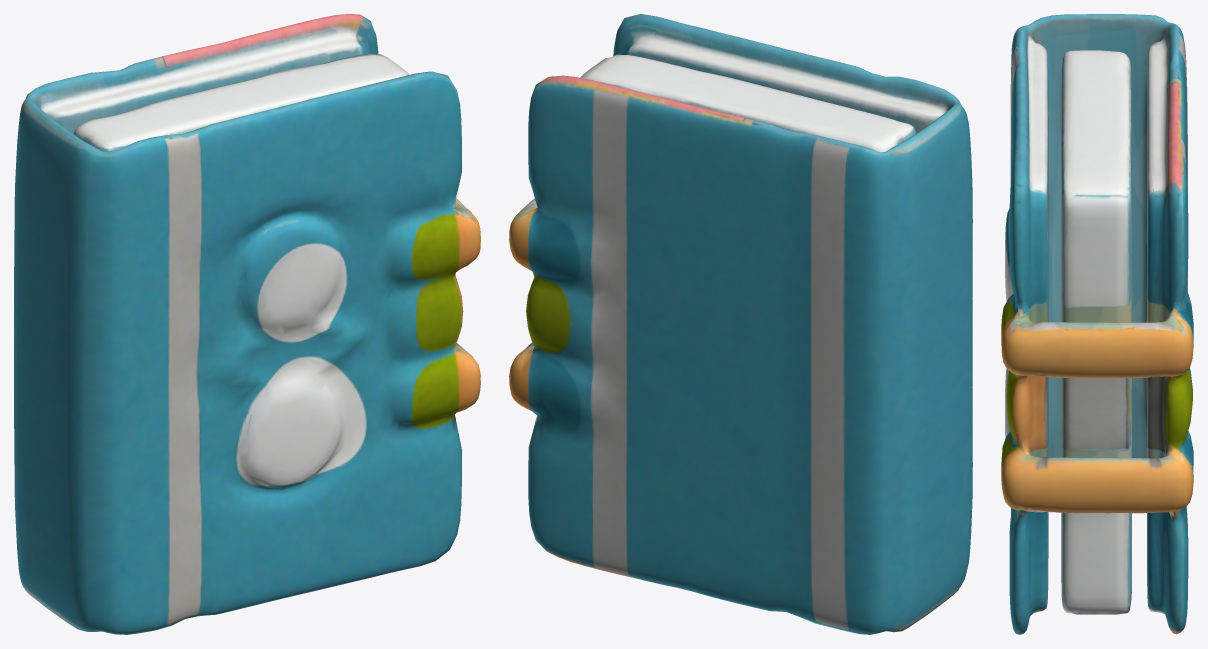
Rendered from book.glb.
3 renders of one model, left to right at view 1: azimuth 30°, elevation 25°; view 2: azimuth 150°, elevation 25°; view 3: azimuth 270°, elevation 25°, orthographic. The views are drawn at different scales.
Bounding box in the file's own units: 1.69 × 2 × 0.7443.
Materials: 1 (1 with a texture image).
